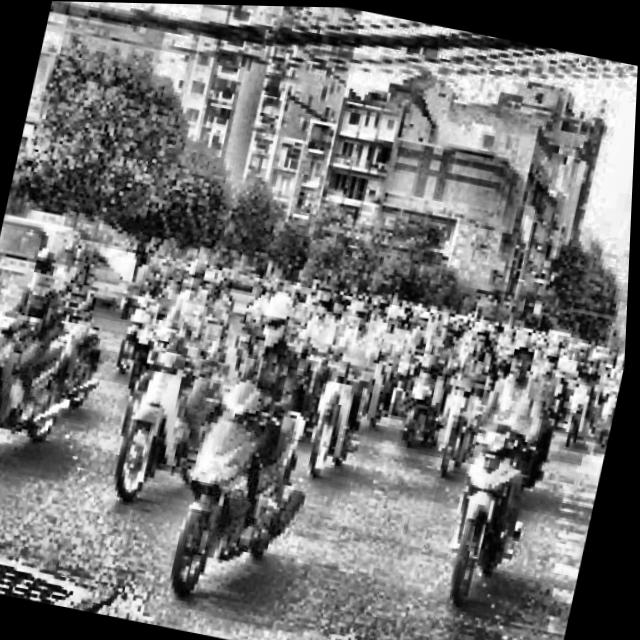motorcycle: (156, 364, 332, 607), (417, 404, 550, 620), (114, 316, 226, 503), (0, 311, 83, 470), (293, 344, 381, 481), (397, 335, 463, 445), (362, 341, 411, 429), (564, 349, 605, 443), (595, 368, 626, 452)
